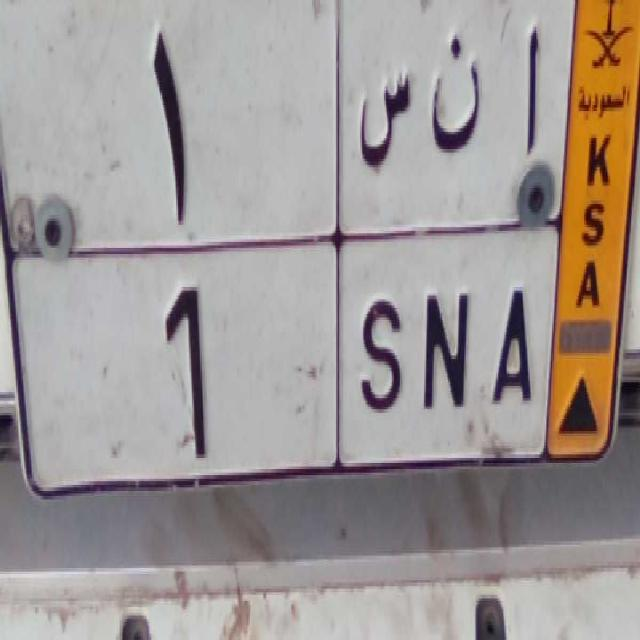license_plate: (8, 222, 549, 472)
